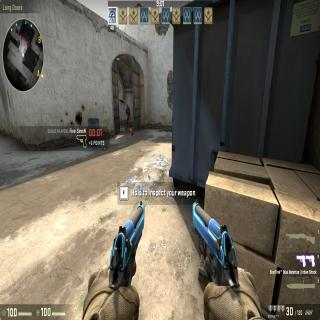T-Body: (125, 103, 131, 130)
T-Head: (126, 103, 129, 109)
